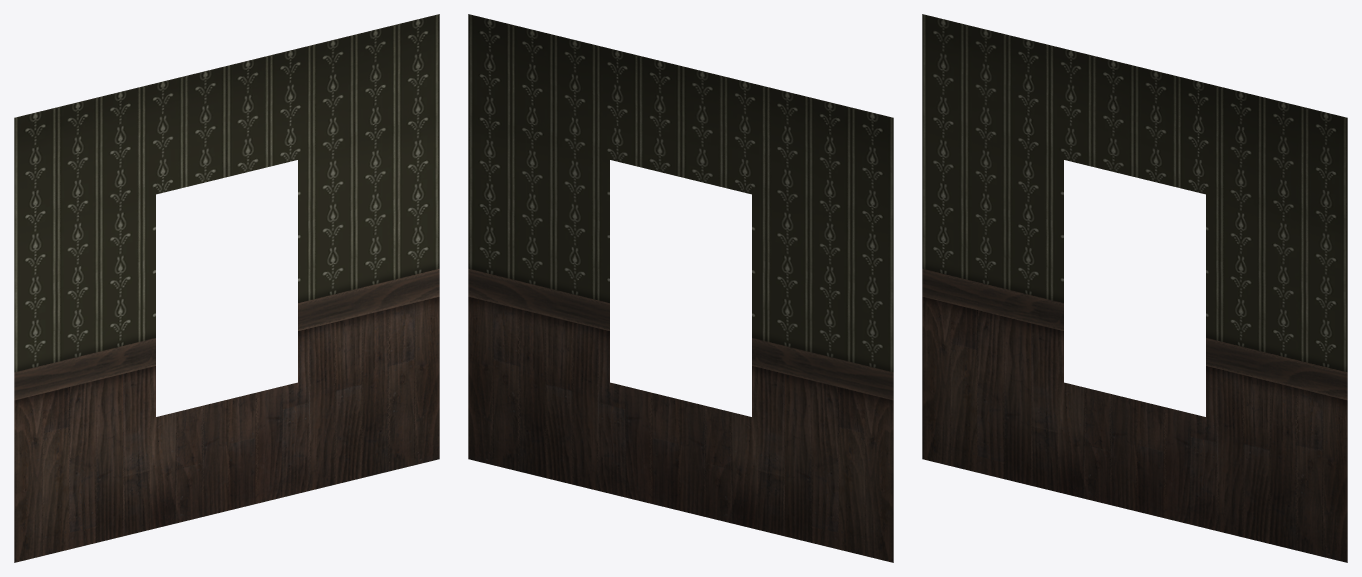
Rendered from Wall.WP_3x3_Window.fbx.
The picture shows the model from 3 angles, left to right: view 1: azimuth 30°, elevation 25°; view 2: azimuth 150°, elevation 25°; view 3: azimuth 330°, elevation 25°; orthographic projection.
Visible parts, largest first — view 1: Wall.WP_3x3_Window; view 2: Wall.WP_3x3_Window; view 3: Wall.WP_3x3_Window.
Part boxes in pixels (x1,y1,x2,y2): Wall.WP_3x3_Window: (14,14,439,562); Wall.WP_3x3_Window: (468,14,893,562); Wall.WP_3x3_Window: (922,14,1347,562).
Size of the model in its own units: 300 by 300 by 4.01e-05.
